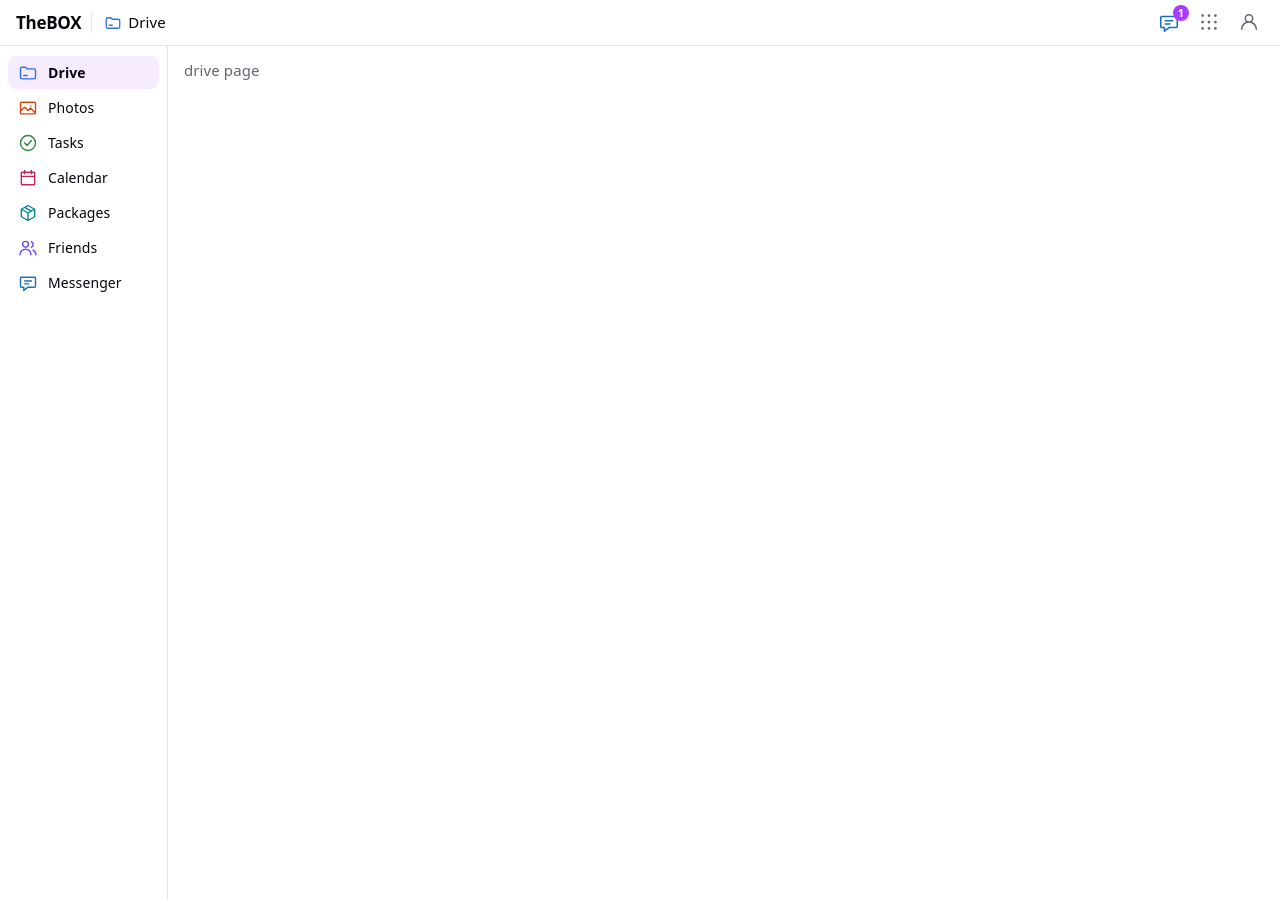
Scenario: Messenger panel › deletes my own message after asking
Click the button named "Messenger" at {"x": 1169, "y": 22}, box [1154,8,1184,38]
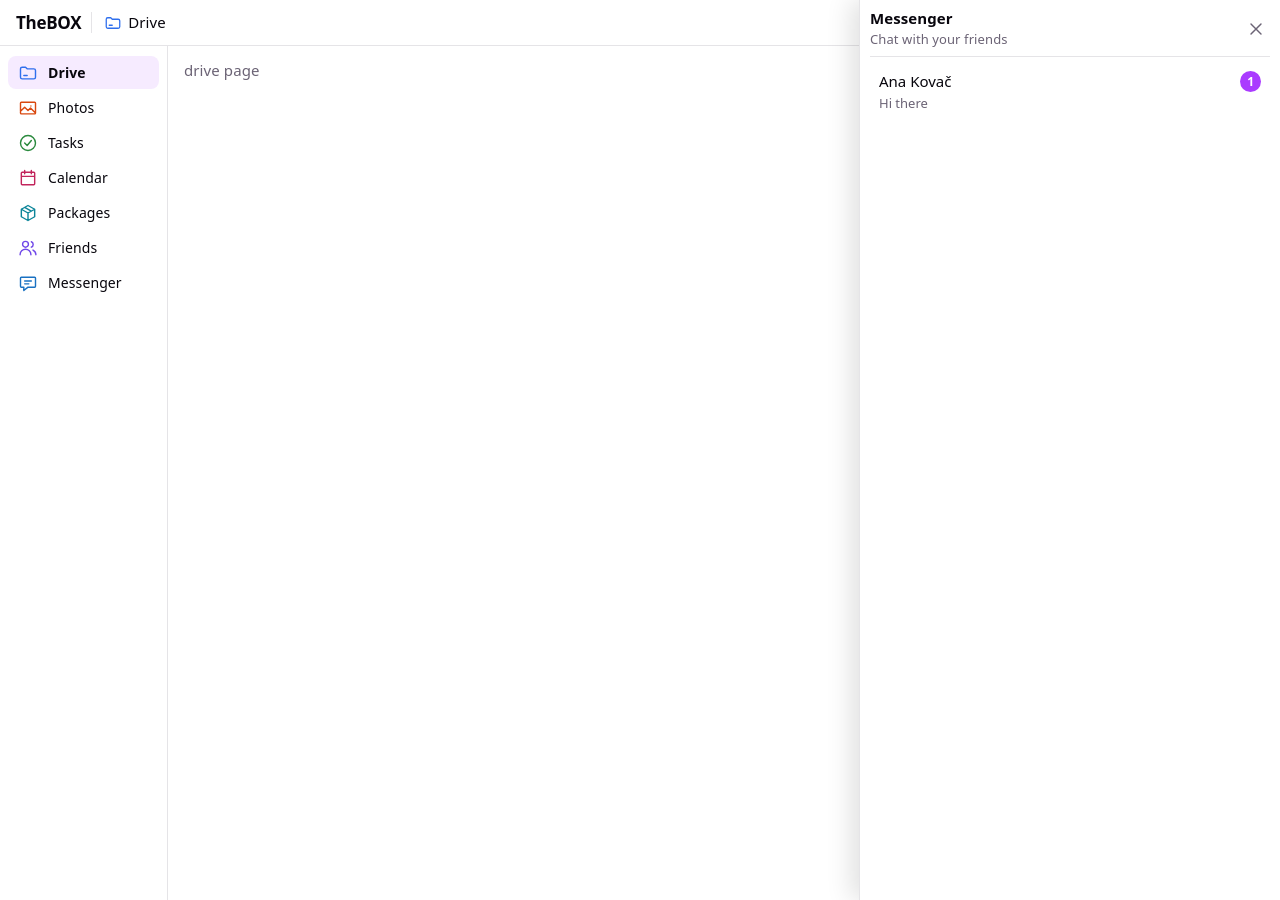
Click the button "Ana Kovač 1 Hi there" at {"x": 915, "y": 81}, box [870,65,1270,120]
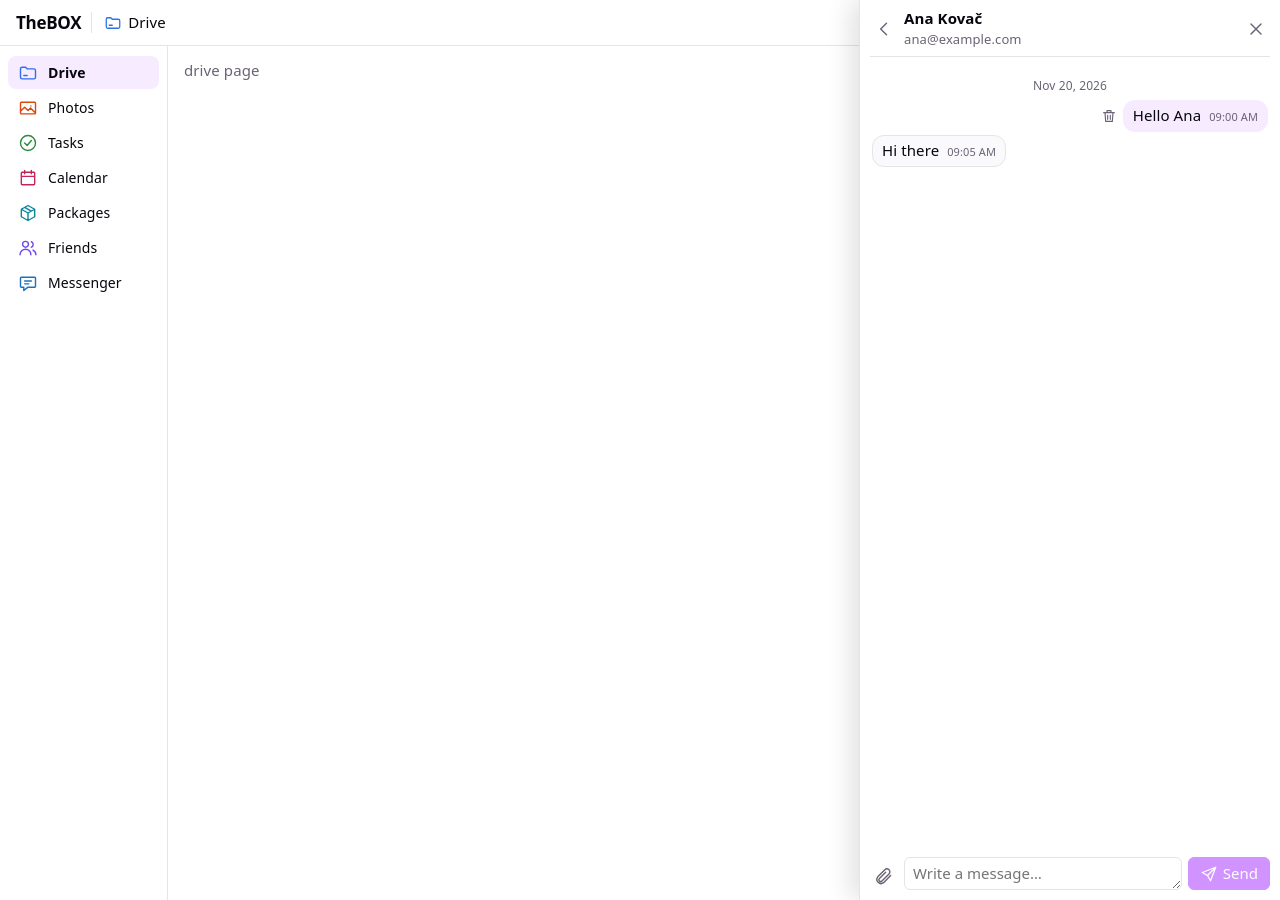
Now the text "Hello Ana" is shown, box [1133,105,1201,126]
Now the number of buttons named "Delete message" is 1
Click the button named "Delete message: Hello Ana" at {"x": 1109, "y": 116}, box [1097,104,1121,128]
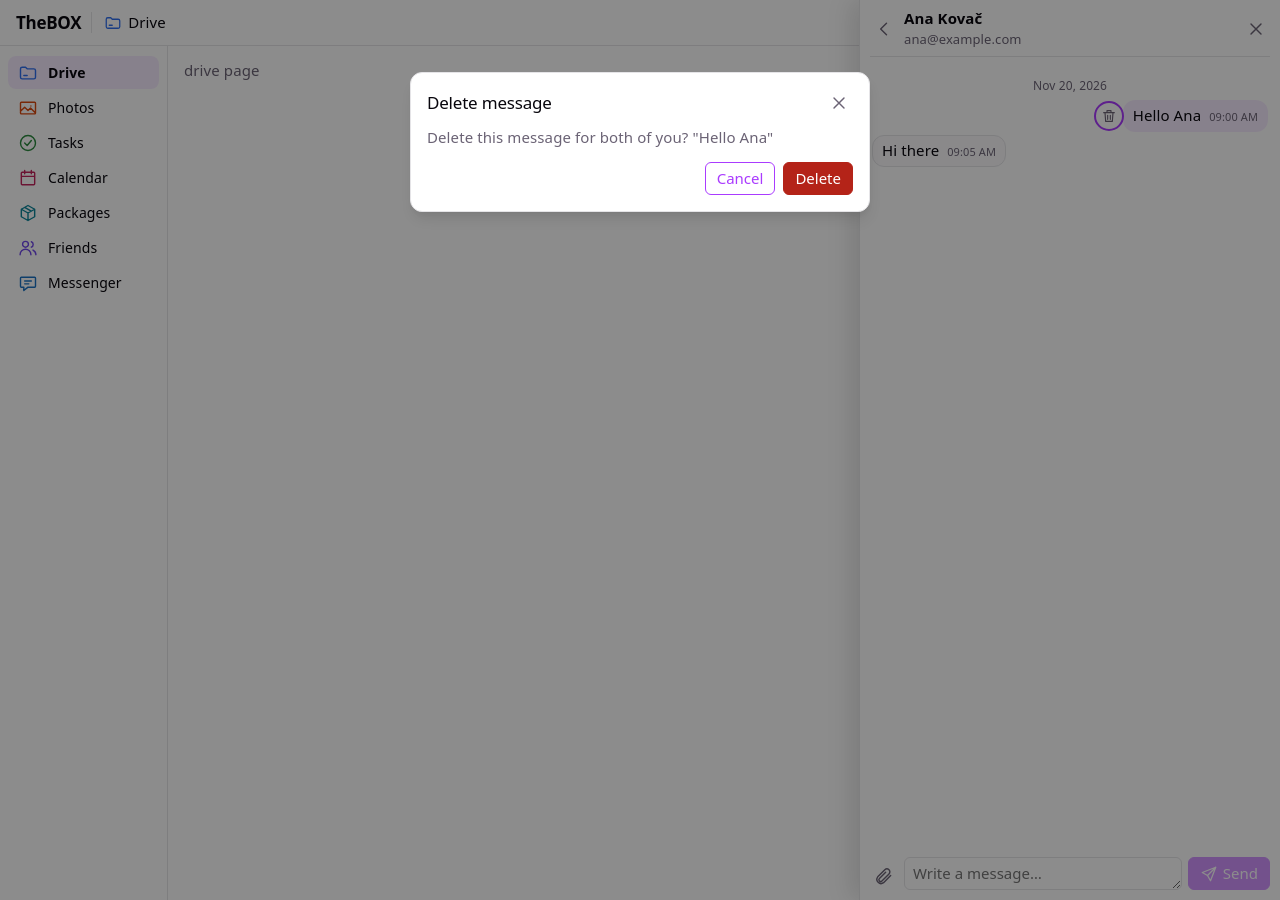
Click the button "Delete" at {"x": 818, "y": 178}, box [783,162,853,195]
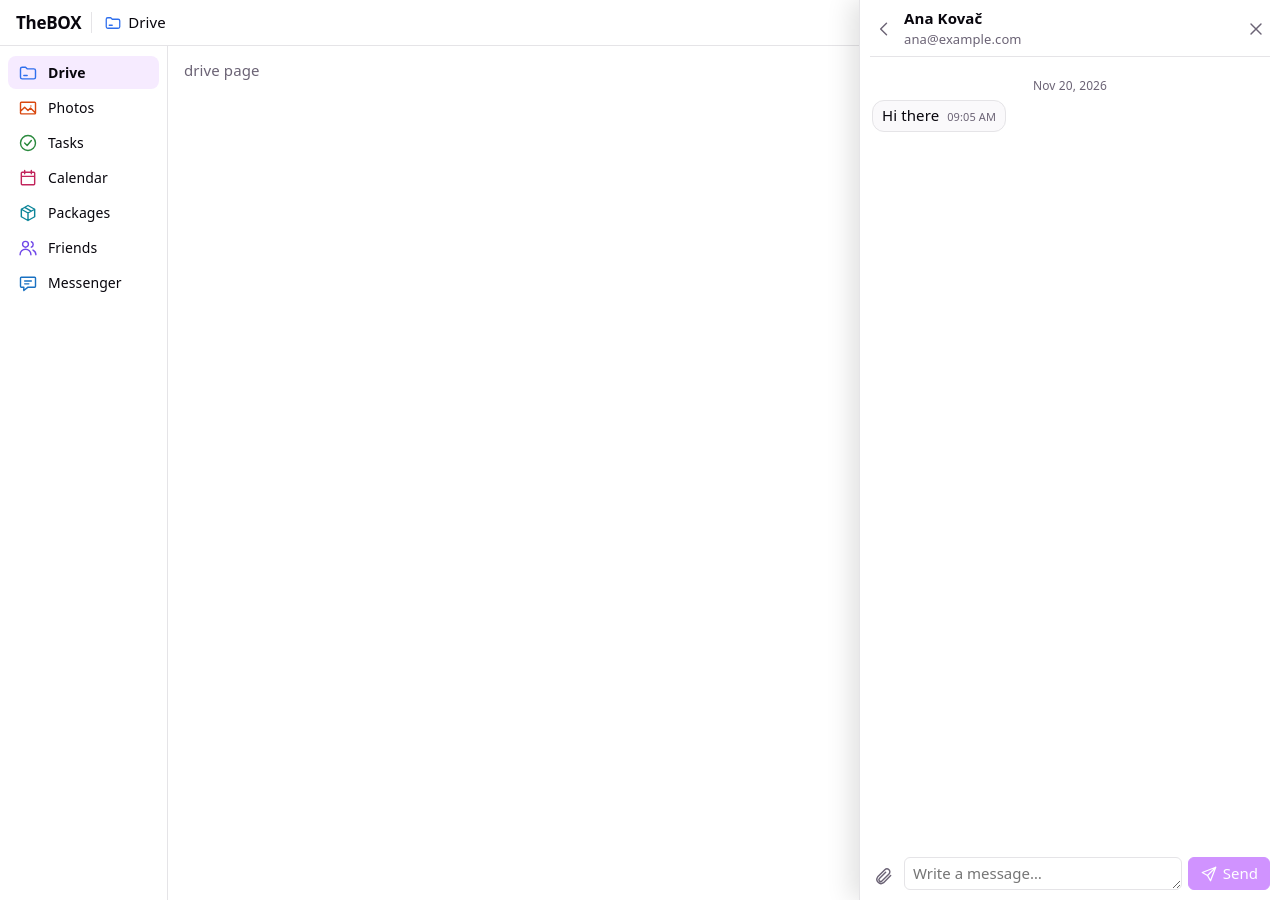
Now the text "Hi there" is shown, box [882,105,939,126]
Now the text "Hello Ana" is gone
